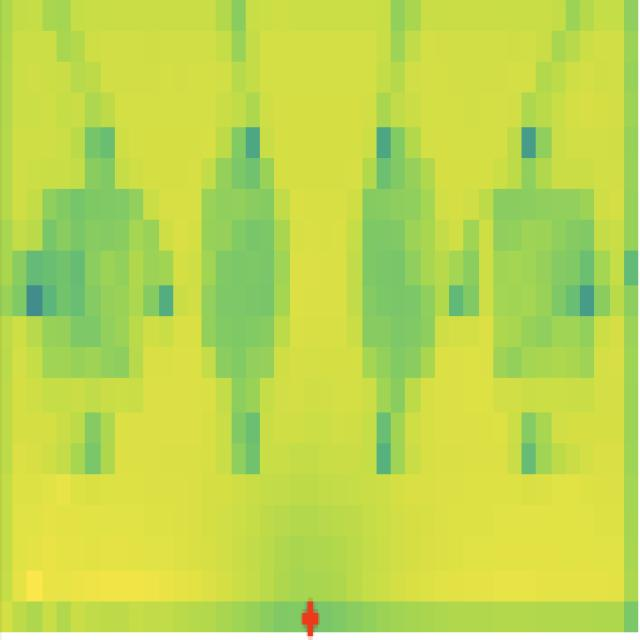Concrete: (493, 190, 595, 376)
Glass: (364, 182, 435, 381)
Metal: (41, 190, 143, 382)
Wood: (199, 180, 280, 390)
